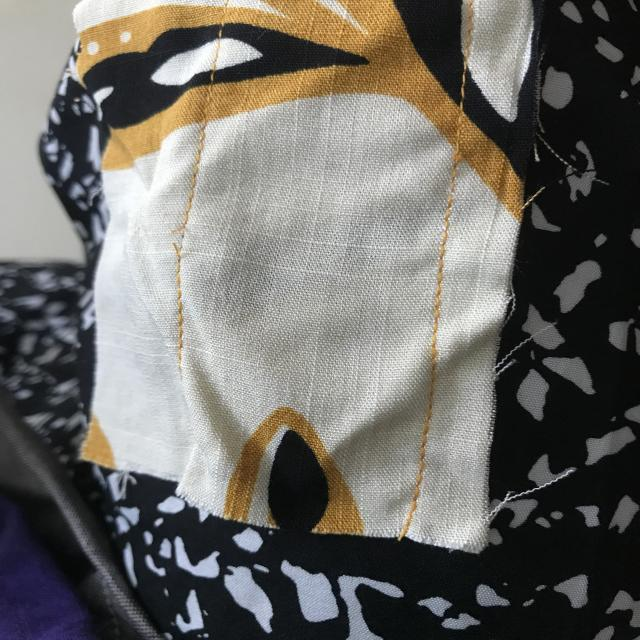broken: (160, 214, 203, 268)
